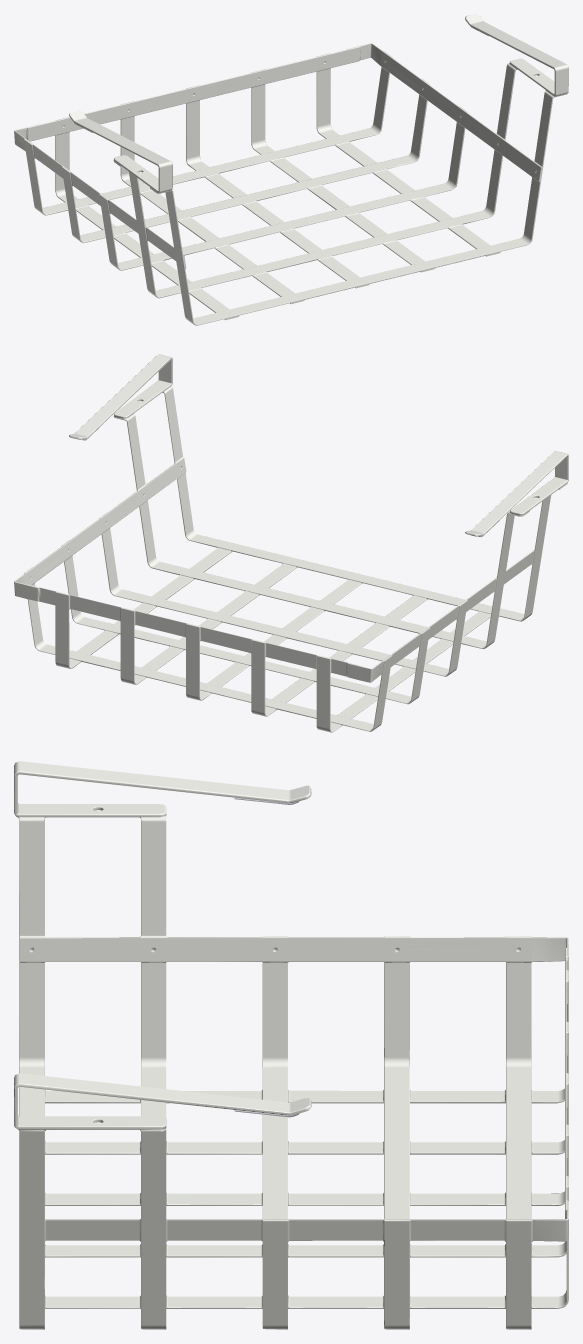
File: P_LYCKE_00534432.glb
3 views of the same model, one above another, from view 1: azimuth 30°, elevation 25°; view 2: azimuth 150°, elevation 25°; view 3: azimuth 270°, elevation 25° (orthographic). The views are drawn at different scales.
Visible parts, largest first — view 1: model; view 2: model; view 3: model.
Boxes of the visible parts, x1,y1,x2,y2 form: model: (14, 14, 568, 325); model: (14, 354, 568, 732); model: (14, 761, 568, 1329).
Bounding box in the file's own units: 0.3581 × 0.1441 × 0.2599.
Materials: 1 (1 with a texture image).
